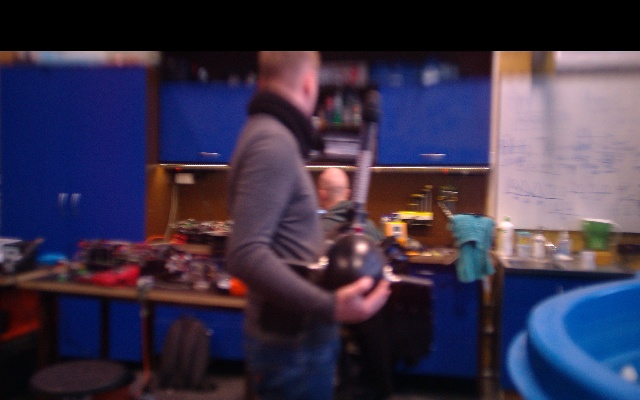black: (352, 147, 374, 208)
